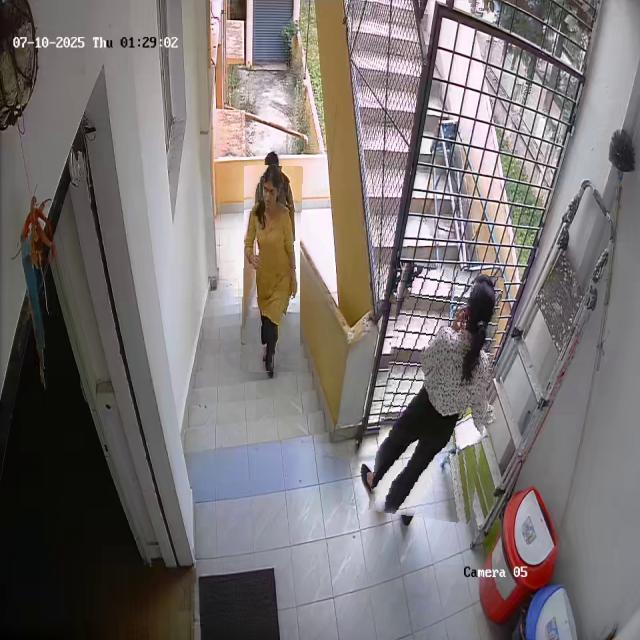person: (377, 266, 496, 522), (242, 166, 302, 372)
